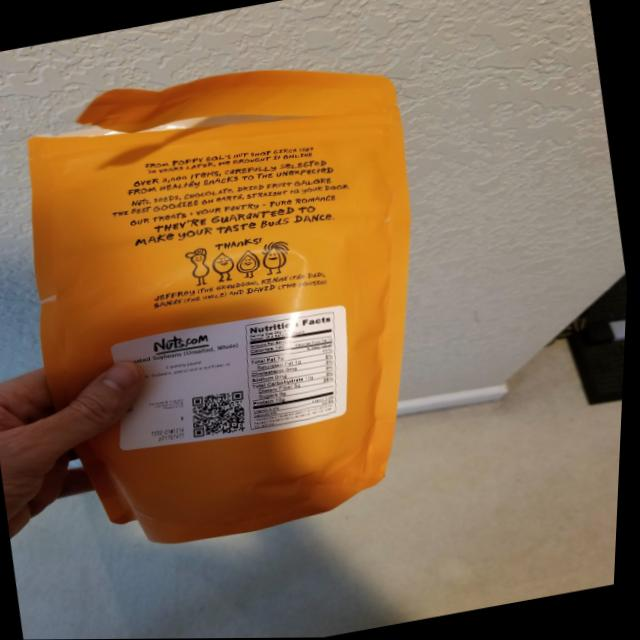QR_CODE: (180, 375, 262, 446)
